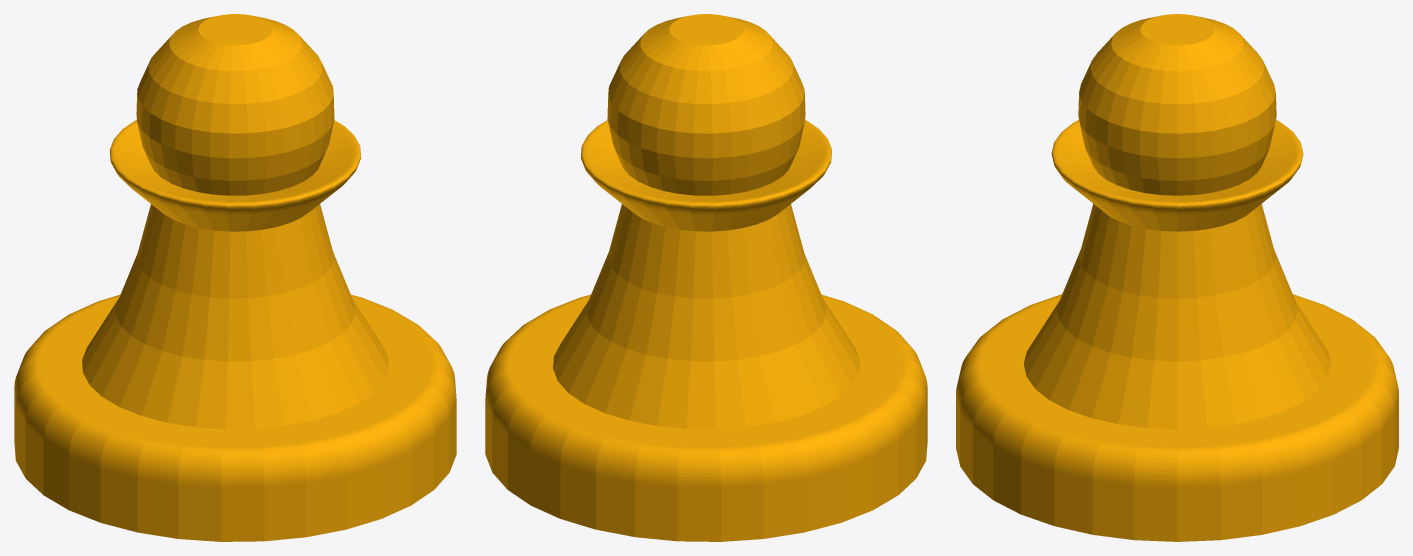
The model's file is YellowPawn.fbx.
3 views of the same model, side by side, from view 1: azimuth 30°, elevation 25°; view 2: azimuth 150°, elevation 25°; view 3: azimuth 270°, elevation 25° (orthographic).
Parts seen in each view (by area): view 1: Cylinder; view 2: Cylinder; view 3: Cylinder.
Part boxes in pixels (x1,y1,x2,y2): Cylinder: (14, 14, 456, 541); Cylinder: (485, 14, 927, 541); Cylinder: (956, 14, 1398, 541).
Size of the model in its own units: 22.44 by 23.4 by 22.44.
